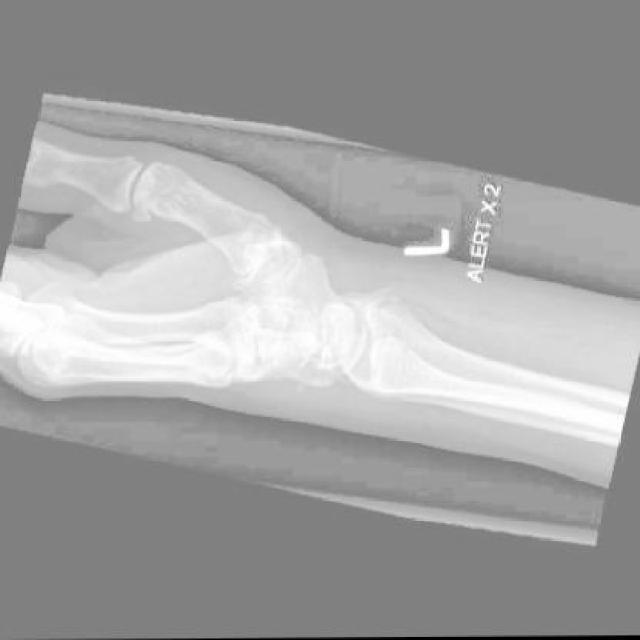bone: (292, 342, 351, 394)
